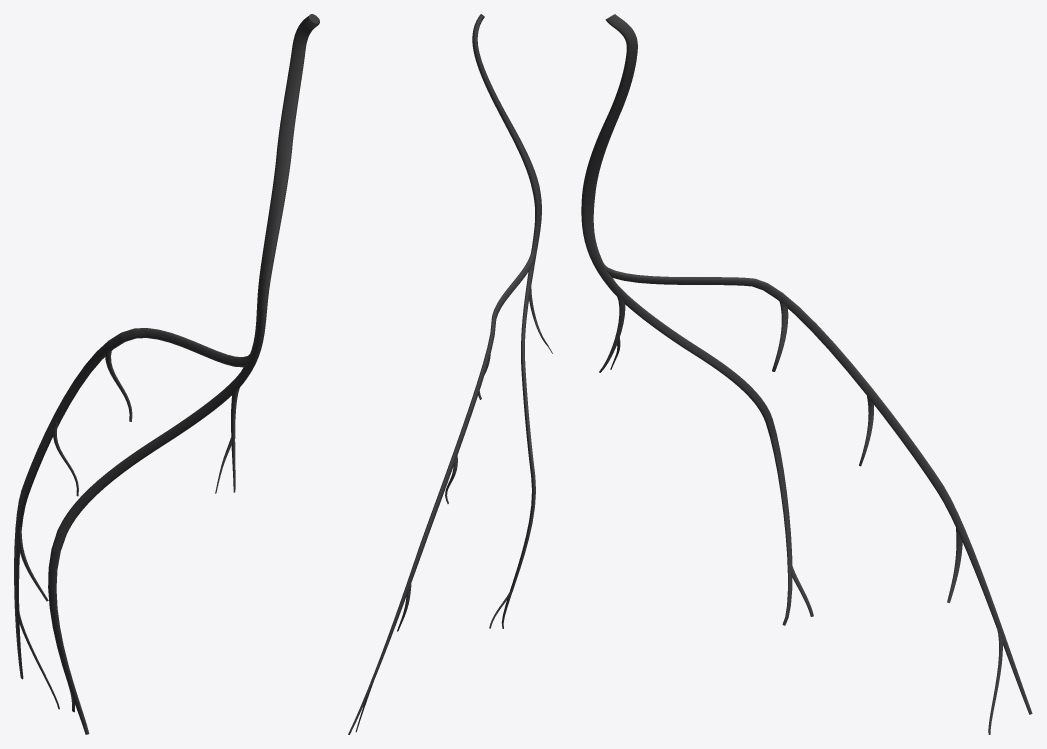
The model's file is N_5_trigeminus_mandibular_buccal.glb.
The picture shows the model from 3 angles, left to right: view 1: azimuth 30°, elevation 25°; view 2: azimuth 150°, elevation 25°; view 3: azimuth 270°, elevation 25°; orthographic projection. The views are drawn at different scales.
Parts seen in each view (by area): view 1: N_5_trigeminus_mandibular_buccal; view 2: N_5_trigeminus_mandibular_buccal; view 3: N_5_trigeminus_mandibular_buccal.
Part boxes in pixels (<box>): N_5_trigeminus_mandibular_buccal: <box>14,14,319,734</box>; N_5_trigeminus_mandibular_buccal: <box>348,14,552,734</box>; N_5_trigeminus_mandibular_buccal: <box>581,14,1032,734</box>.
Size of the model in its own units: 0.0103 by 0.0476 by 0.0264.
1 material, 1 textured.
